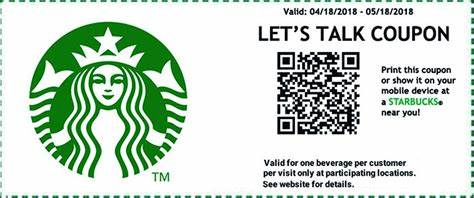starbucks Originale: (22, 16, 196, 187)
